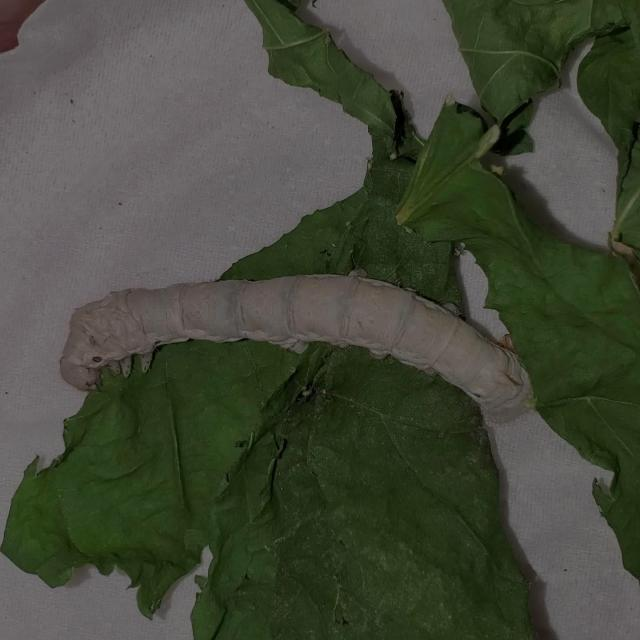Healthy: (45, 248, 562, 436)
